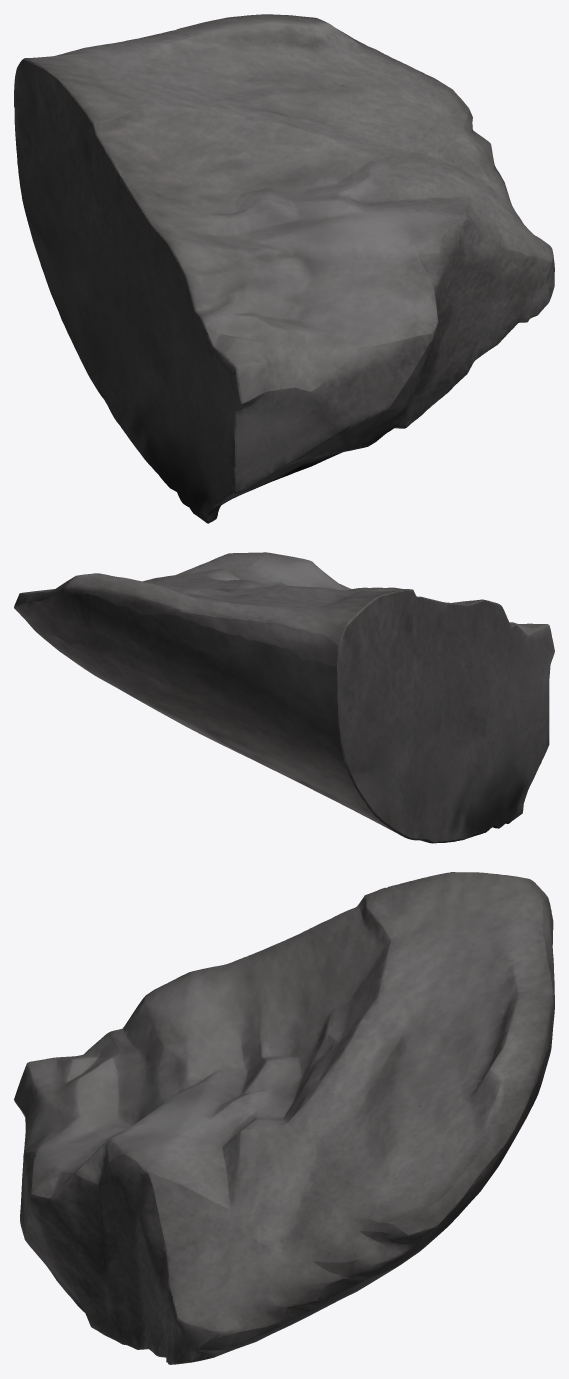
3 views of the same model, one above another, from view 1: azimuth 30°, elevation 25°; view 2: azimuth 150°, elevation 25°; view 3: azimuth 270°, elevation 25° (orthographic). The views are drawn at different scales.
Parts seen in each view (by area): view 1: world; view 2: world; view 3: world.
Part boxes in pixels (x1,y1,x2,y2): world: [14, 14, 554, 523]; world: [14, 552, 554, 843]; world: [14, 872, 554, 1364].
Size of the model in its own units: 1.2 by 0.9733 by 1.19.
Materials: 1 (1 with a texture image).
